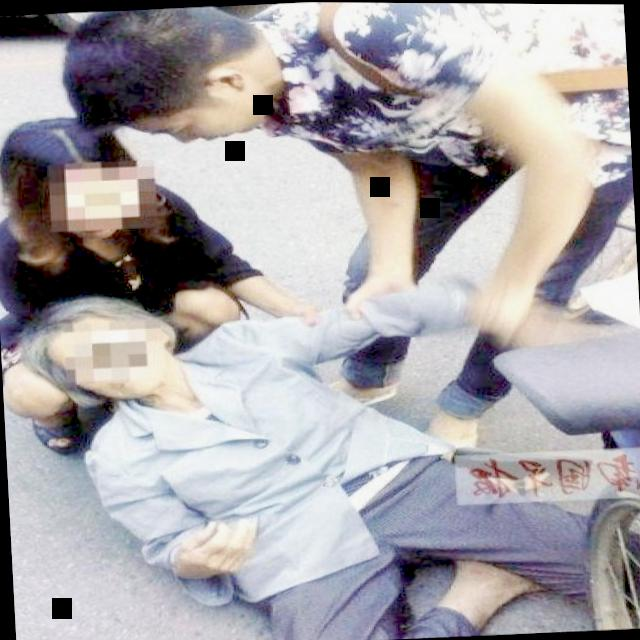Fall-Detected: (31, 236, 632, 640)
